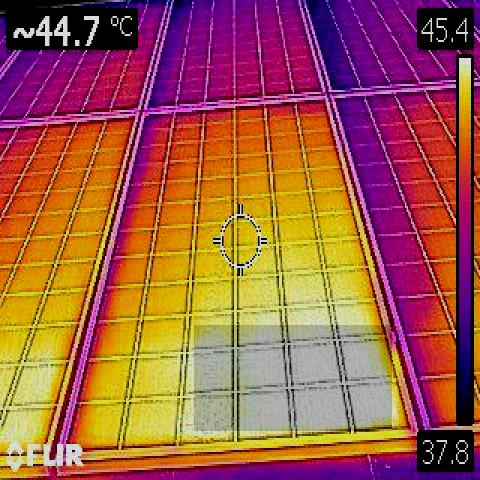fault: (194, 326, 392, 432)
